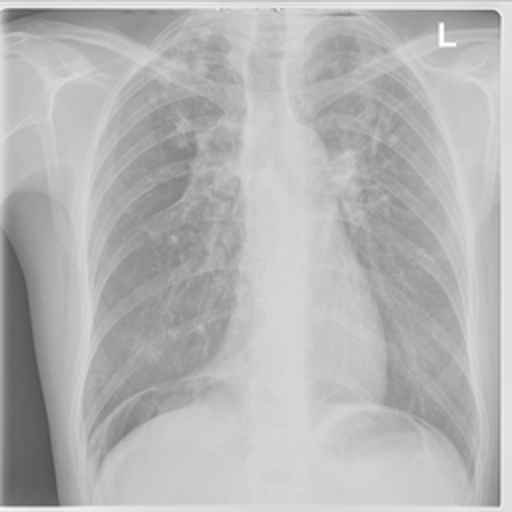TB: (163, 31, 228, 253), (341, 48, 392, 235)
